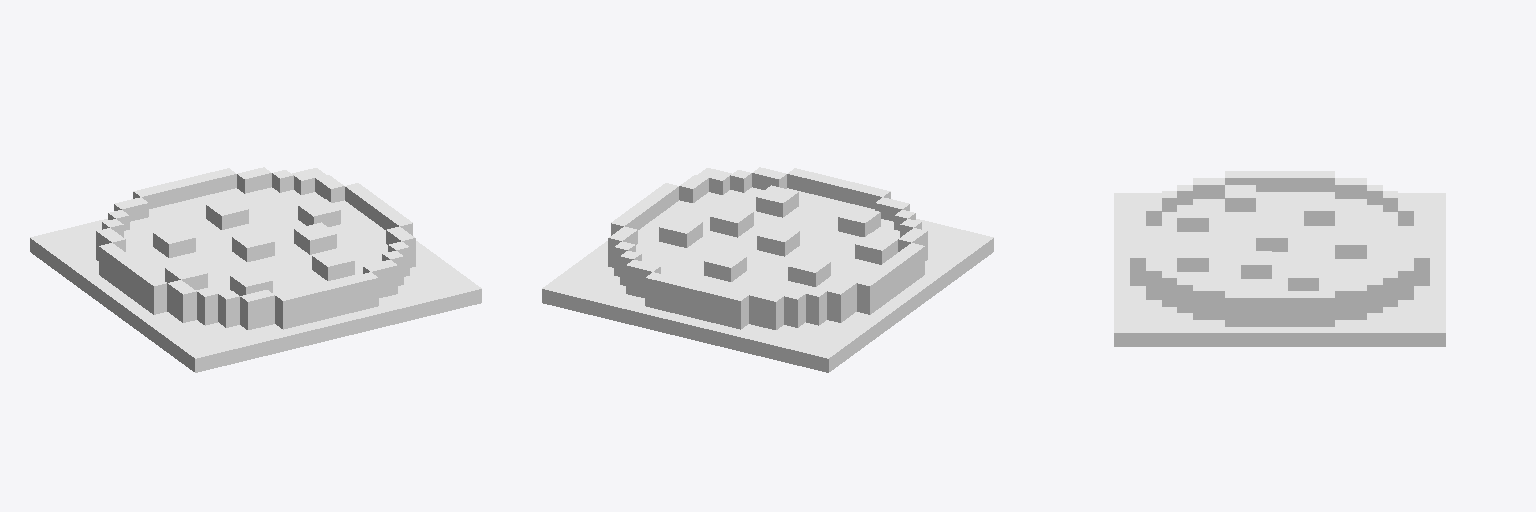
The model's file is PizzaPlate.obj.
3 renders of one model, left to right at view 1: azimuth 30°, elevation 25°; view 2: azimuth 150°, elevation 25°; view 3: azimuth 270°, elevation 25°, orthographic.
Bounding box in the file's own units: 21 × 3 × 21.